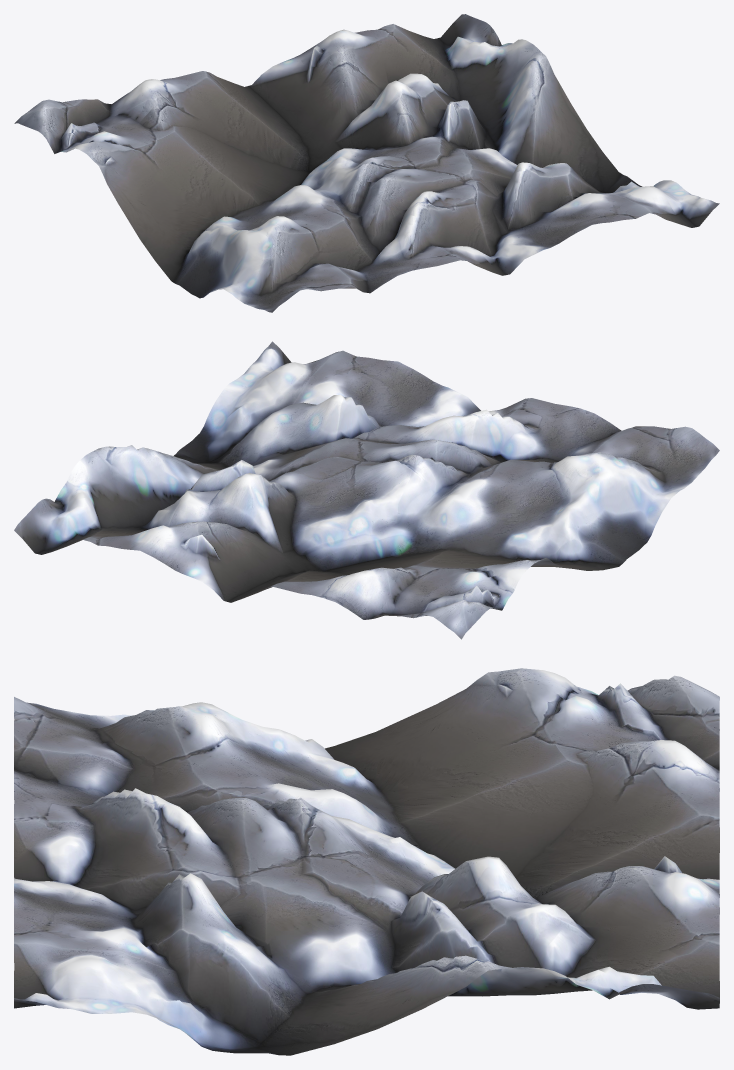
File: Cliff1.fbx
3 views of the same model, one above another, from view 1: azimuth 30°, elevation 25°; view 2: azimuth 150°, elevation 25°; view 3: azimuth 270°, elevation 25° (orthographic). The views are drawn at different scales.
Visible parts, largest first — view 1: Plane; view 2: Plane; view 3: Plane.
Part boxes in pixels (left/top/right/bottom): Plane: left=14, top=14, right=719, bottom=312; Plane: left=14, top=341, right=719, bottom=639; Plane: left=14, top=668, right=719, bottom=1055.
Size of the model in its own units: 200 by 33.66 by 200.
